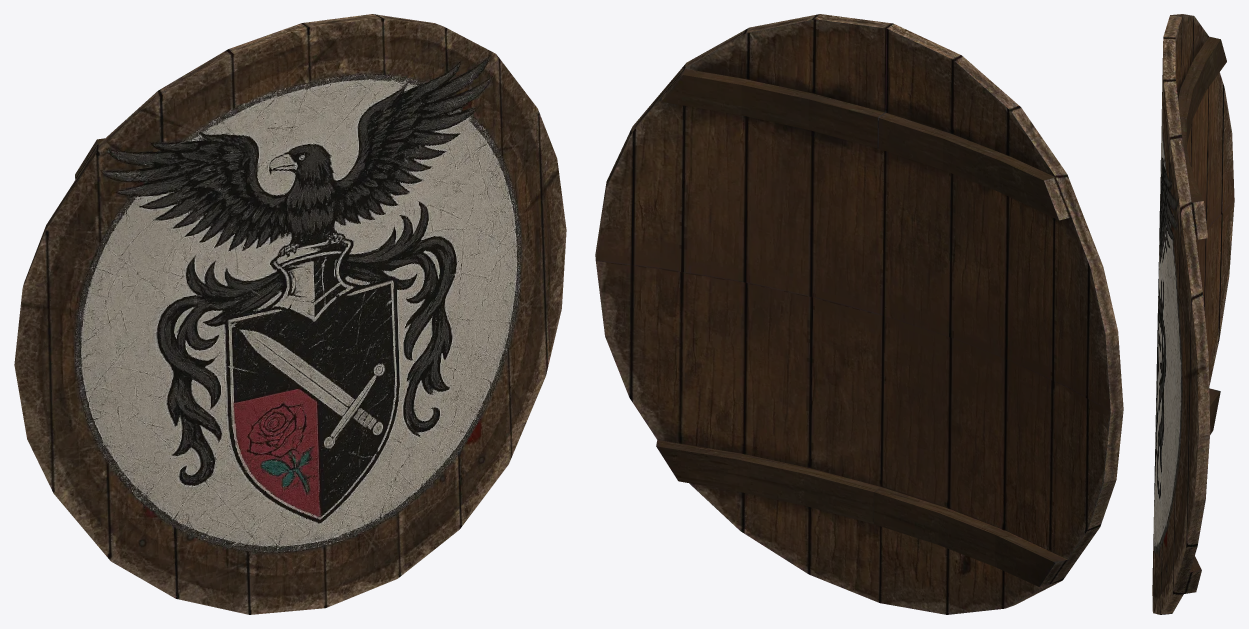
The model's file is ITSH_SHIELD_CHEVALIER_DE_NOIVRAL.glb.
3 views of the same model, side by side, from view 1: azimuth 30°, elevation 25°; view 2: azimuth 150°, elevation 25°; view 3: azimuth 270°, elevation 25° (orthographic). The views are drawn at different scales.
Visible parts, largest first — view 1: ITSH_SHIELD_CHEVALIER_DE_NOIVRAL; view 2: ITSH_SHIELD_CHEVALIER_DE_NOIVRAL; view 3: ITSH_SHIELD_CHEVALIER_DE_NOIVRAL.
Part boxes in pixels (x1,y1,x2,y2): ITSH_SHIELD_CHEVALIER_DE_NOIVRAL: (14,14,566,614); ITSH_SHIELD_CHEVALIER_DE_NOIVRAL: (595,14,1123,614); ITSH_SHIELD_CHEVALIER_DE_NOIVRAL: (1152,14,1234,614).
Size of the model in its own units: 0.732 by 0.7519 by 0.1023.
Materials: 1 (1 with a texture image).
